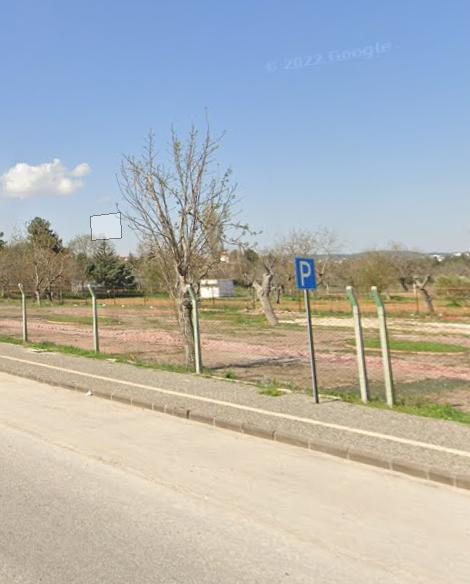park: (293, 253, 318, 291)
